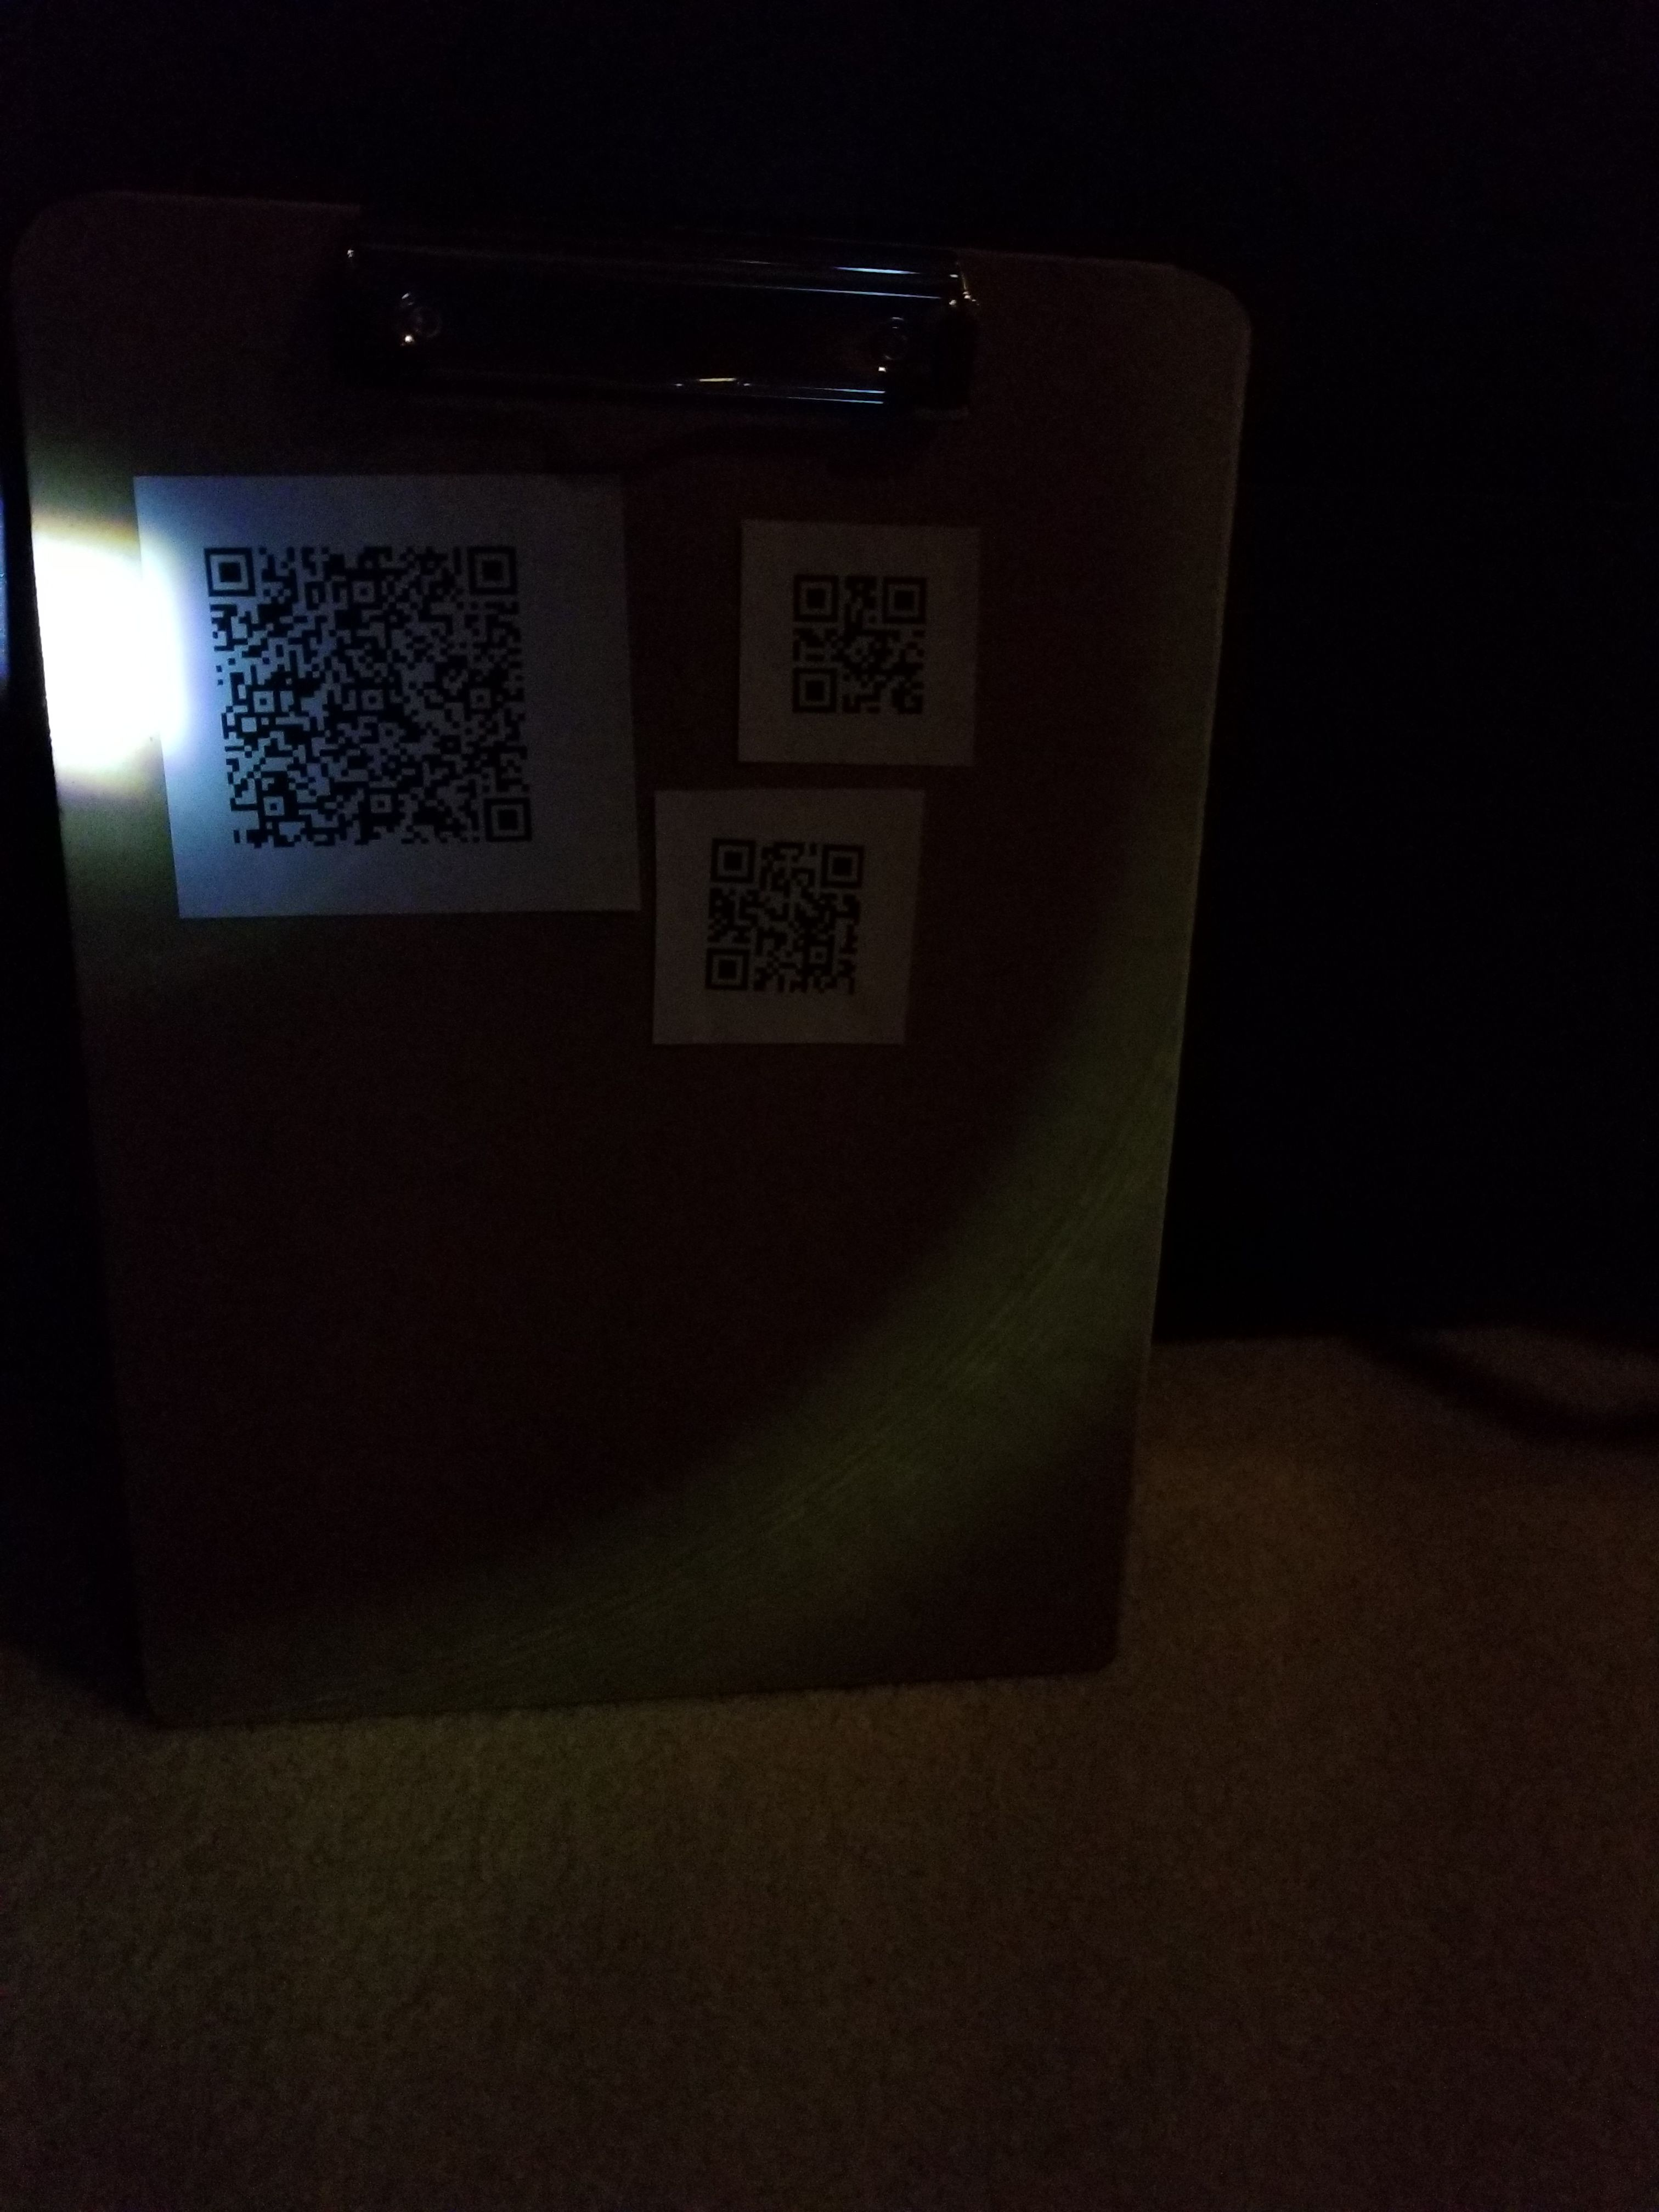QR_CODE: (178, 500, 565, 867), (676, 803, 890, 1031), (762, 535, 960, 742)
